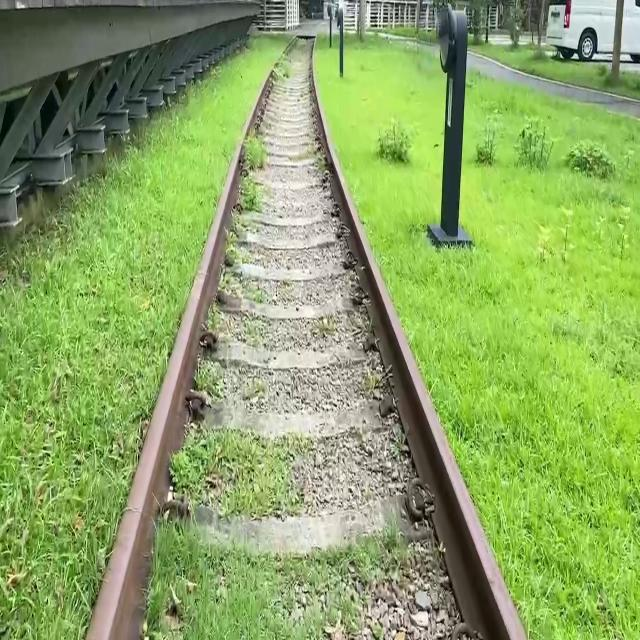rail-track: (171, 40, 462, 640)
